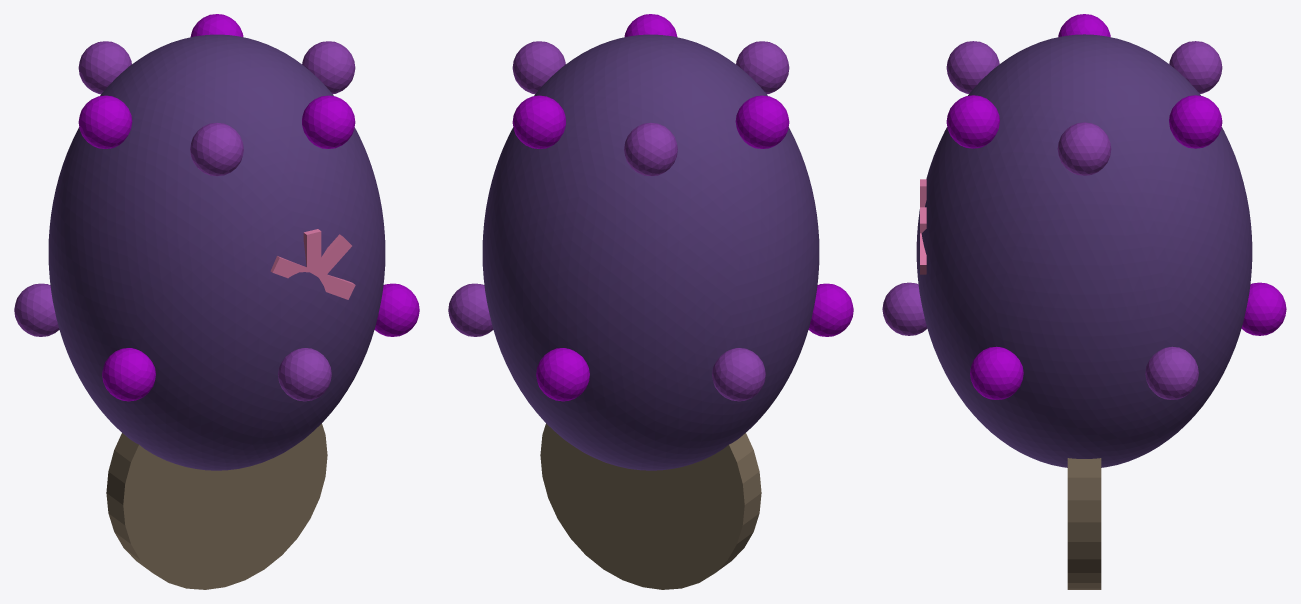
File: dragon_egg.glb
The picture shows the model from 3 angles, left to right: view 1: azimuth 30°, elevation 25°; view 2: azimuth 150°, elevation 25°; view 3: azimuth 270°, elevation 25°; orthographic projection.
Parts seen in each view (by area): view 1: world; view 2: world; view 3: world.
Part boxes in pixels (x1,y1,x2,y2): world: [14, 14, 419, 589]; world: [448, 14, 853, 589]; world: [882, 14, 1286, 589].
Bounding box in the file's own units: 1.06 × 1.75 × 1.2.
